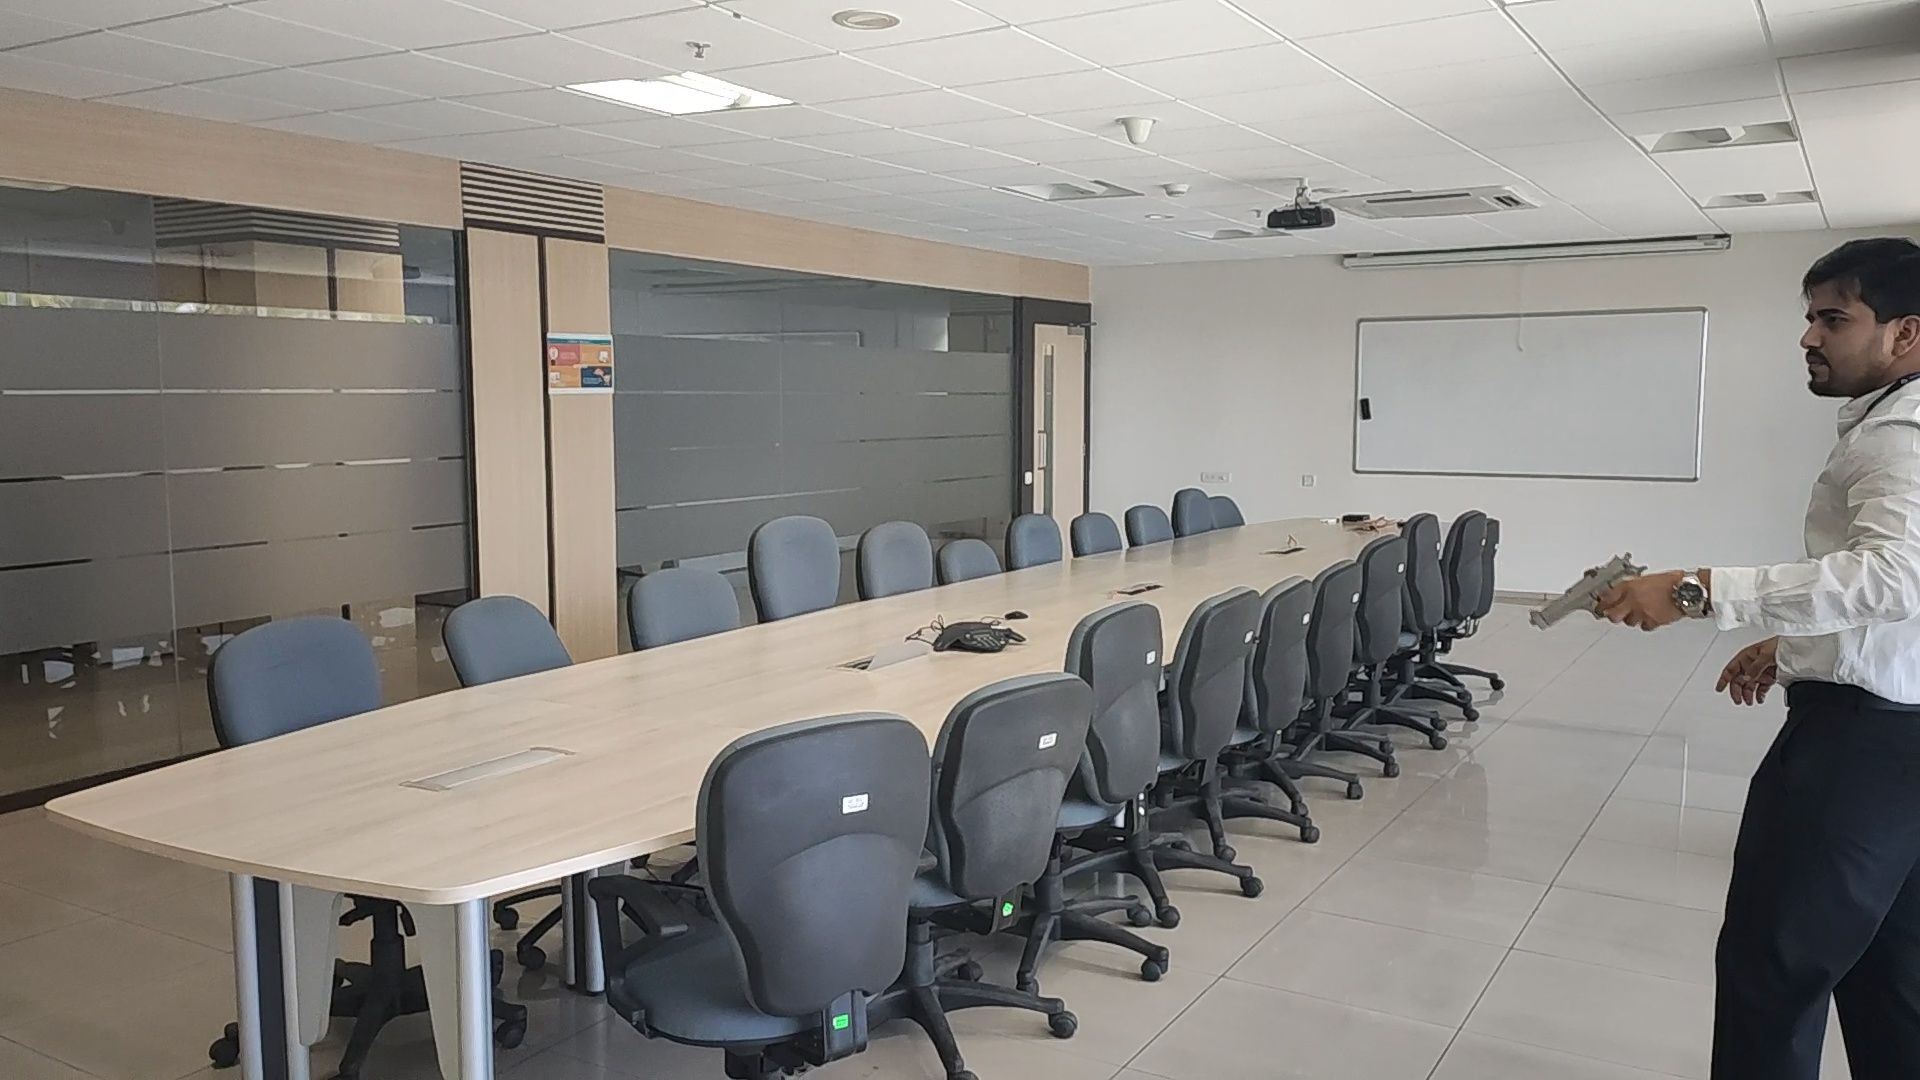gun: (1526, 546, 1646, 628)
